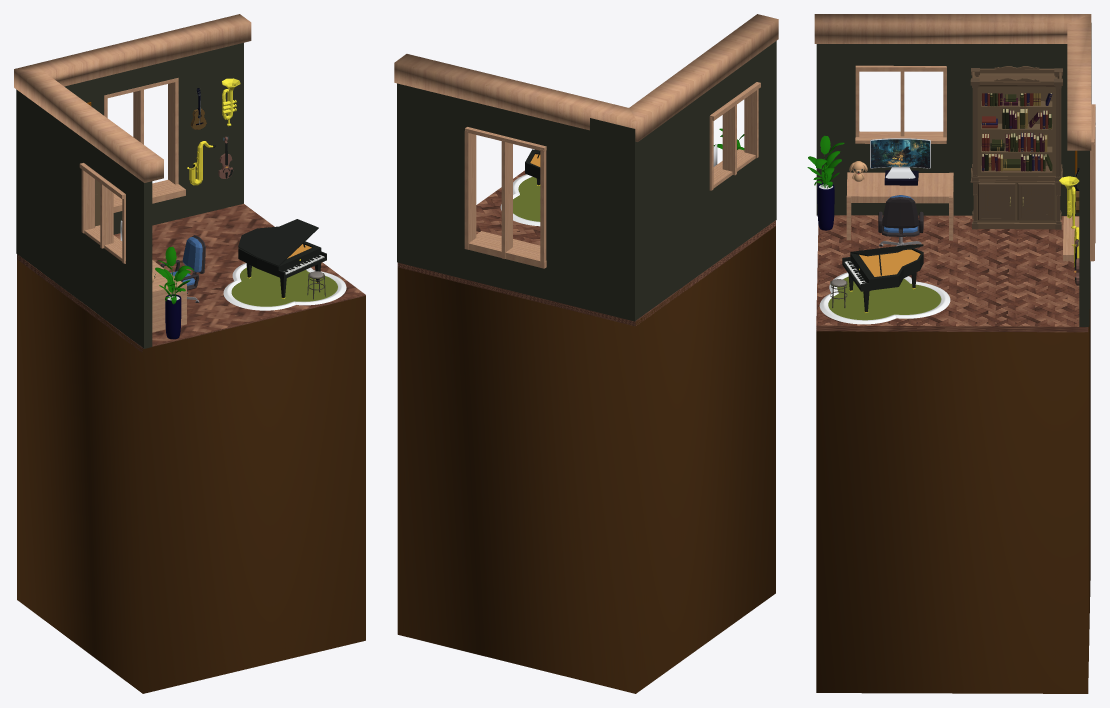
File: Jazz-transformed.glb
3 renders of one model, left to right at view 1: azimuth 30°, elevation 25°; view 2: azimuth 150°, elevation 25°; view 3: azimuth 270°, elevation 25°, orthographic. The views are drawn at different scales.
Parts seen in each view (by area): view 1: Plane, Plane.002, Floor, trumpet_Circle.006, plant.001; view 2: Plane, Plane.002, Floor; view 3: Plane, trumpet_Circle.006, Floor, Plane.002, Plane.004, plant.001.
Boxes of the visible parts, x1=… form: Plane: x1=16, y1=43, x2=365, y2=693; Plane.002: x1=14, y1=14, x2=251, y2=332; Floor: x1=17, y1=203, x2=365, y2=352; trumpet_Circle.006: x1=95, y1=78, x2=326, y2=302; plant.001: x1=155, y1=246, x2=194, y2=304; Plane: x1=397, y1=41, x2=776, y2=693; Plane.002: x1=394, y1=14, x2=778, y2=268; Floor: x1=397, y1=170, x2=775, y2=326; Plane: x1=816, y1=23, x2=1091, y2=693; trumpet_Circle.006: x1=830, y1=66, x2=1079, y2=312; Floor: x1=816, y1=215, x2=1088, y2=332; Plane.002: x1=814, y1=14, x2=1095, y2=261; Plane.004: x1=871, y1=139, x2=929, y2=168; plant.001: x1=807, y1=135, x2=844, y2=188.
Bounding box in the file's own units: 8.98 × 19.91 × 9.23.
Materials: 8 (8 with a texture image).
